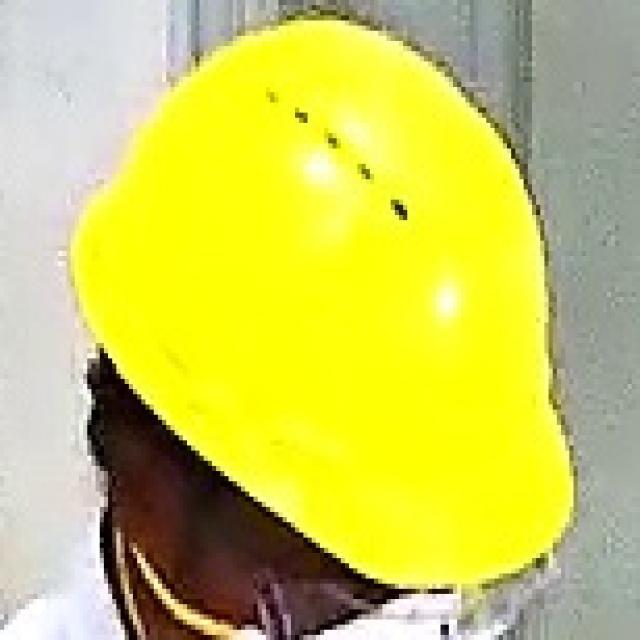yellow helmet: (59, 16, 591, 596)
